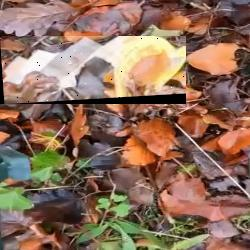restaffald: (0, 36, 186, 104)
